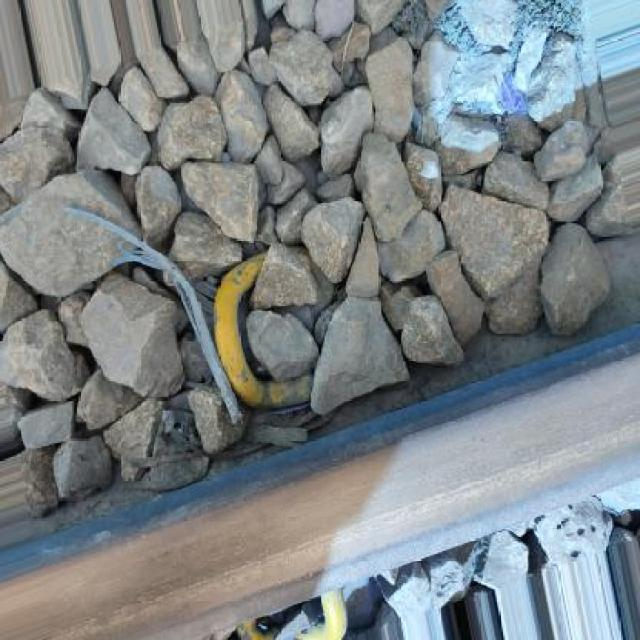non-defective: (3, 292, 640, 640)
